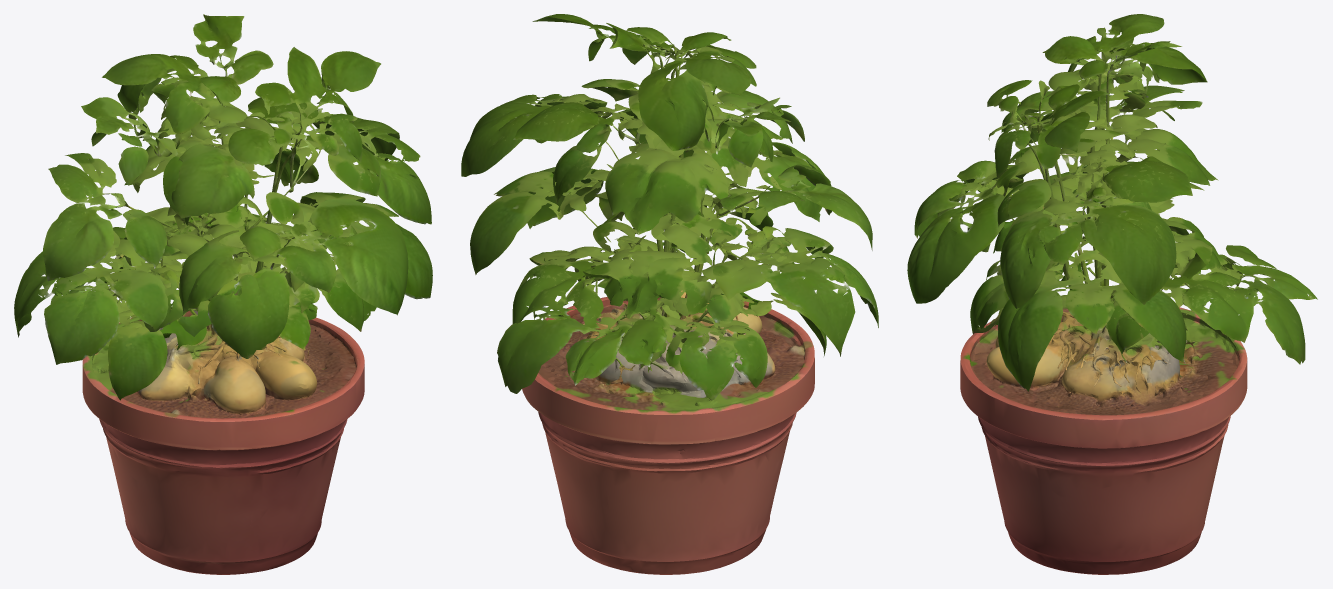
The model's file is kentang1.glb.
The picture shows the model from 3 angles, left to right: view 1: azimuth 30°, elevation 25°; view 2: azimuth 150°, elevation 25°; view 3: azimuth 270°, elevation 25°; orthographic projection. The views are drawn at different scales.
Visible parts, largest first — view 1: model; view 2: model; view 3: model.
Part boxes in pixels (x1,y1,x2,y2): model: (14,14,432,574); model: (461,14,878,574); model: (907,14,1317,574).
Bounding box in the file's own units: 1.47 × 1.89 × 1.39.
Materials: 1 (1 with a texture image).
